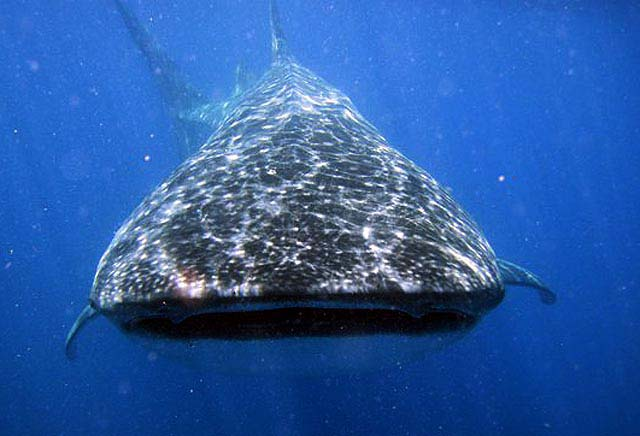Rhincodon_typusw: (67, 26, 576, 387)
